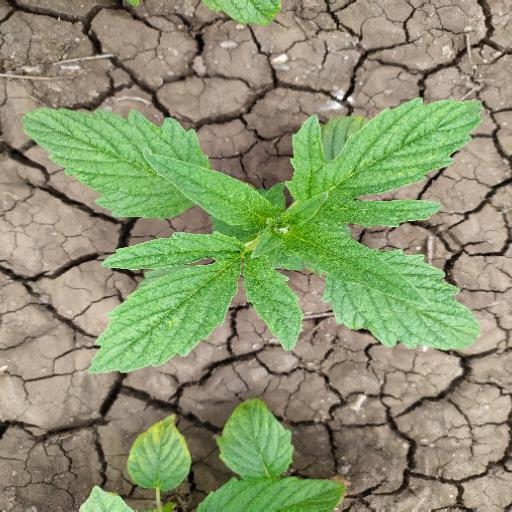crop: (31, 77, 483, 387)
